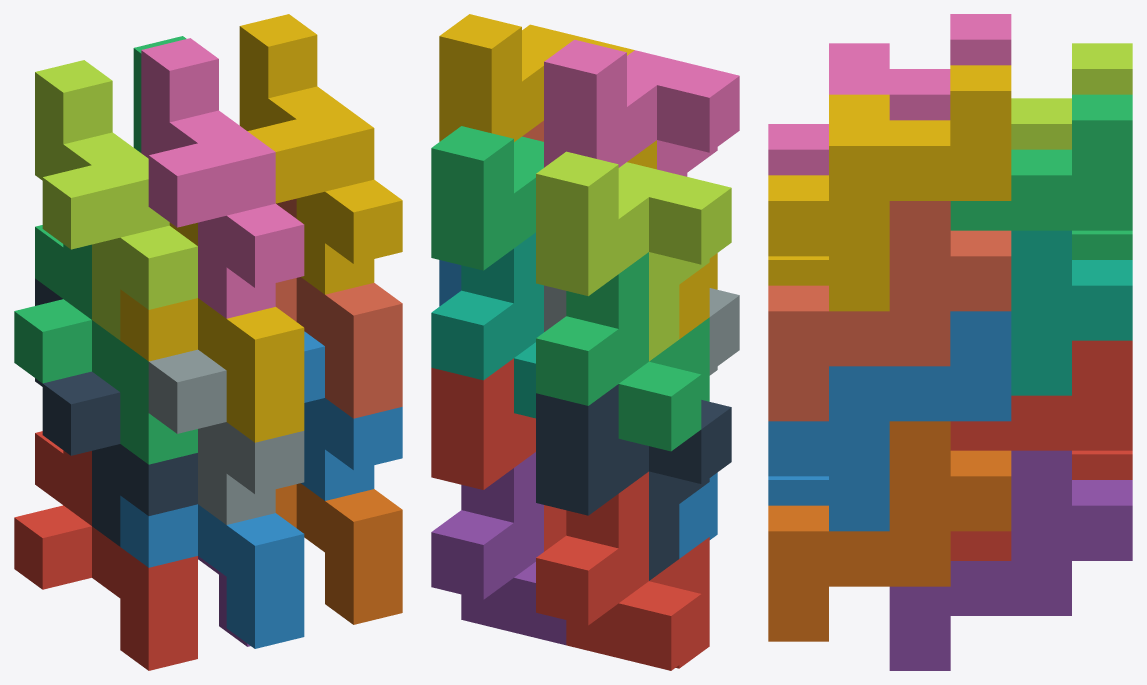
File: tiling.obj
3 views of the same model, side by side, from view 1: azimuth 30°, elevation 25°; view 2: azimuth 150°, elevation 25°; view 3: azimuth 270°, elevation 25° (orthographic). The views are drawn at different scales.
Visible parts, largest first — view 1: copy_2_domain_4, copy_2_domain_8, copy_2_domain_3, copy_1_domain_1, copy_1_domain_4, copy_1_domain_2, copy_1_domain_3, copy_2_domain_2, copy_2_domain_1, copy_1_domain_8, copy_1_domain_6, copy_2_domain_6 (+2 smaller); view 2: copy_2_domain_3, copy_1_domain_1, copy_2_domain_4, copy_1_domain_3, copy_2_domain_1, copy_1_domain_5, copy_2_domain_7, copy_2_domain_8, copy_1_domain_7, copy_2_domain_5, copy_2_domain_2, copy_1_domain_4 (+2 smaller); view 3: copy_2_domain_8, copy_1_domain_6, copy_1_domain_8, copy_2_domain_6, copy_1_domain_5, copy_2_domain_7, copy_1_domain_7, copy_2_domain_5, copy_2_domain_4, copy_2_domain_3, copy_1_domain_1, copy_1_domain_2 (+2 smaller).
Boxes of the visible parts, box(x1,y1,x2,y2) form: copy_2_domain_4: box(141, 38, 304, 318); copy_2_domain_8: box(239, 14, 402, 294); copy_2_domain_3: box(35, 60, 197, 340); copy_1_domain_1: box(14, 431, 197, 670); copy_1_domain_4: box(120, 222, 304, 442); copy_1_domain_2: box(120, 495, 304, 648); copy_1_domain_3: box(14, 225, 197, 464); copy_2_domain_2: box(148, 349, 304, 524); copy_2_domain_1: box(35, 278, 197, 546); copy_1_domain_8: box(275, 198, 402, 418); copy_1_domain_6: box(275, 483, 402, 624); copy_2_domain_6: box(301, 331, 402, 500); copy_2_domain_3: box(536, 151, 731, 361); copy_1_domain_1: box(536, 471, 709, 670); copy_2_domain_4: box(544, 39, 739, 176); copy_1_domain_3: box(536, 252, 709, 451); copy_2_domain_1: box(536, 384, 731, 580); copy_1_domain_5: box(431, 452, 566, 645); copy_2_domain_7: box(431, 126, 543, 270); copy_2_domain_8: box(439, 14, 634, 141); copy_1_domain_7: box(431, 232, 543, 418); copy_2_domain_5: box(431, 358, 566, 551); copy_2_domain_2: box(544, 285, 739, 375); copy_1_domain_4: box(627, 140, 717, 338); copy_2_domain_8: box(768, 65, 1011, 311); copy_1_domain_6: box(768, 421, 1011, 641); copy_1_domain_8: box(768, 201, 1011, 421); copy_2_domain_6: box(768, 311, 1011, 531); copy_1_domain_5: box(889, 450, 1132, 670); copy_2_domain_7: box(950, 94, 1132, 230); copy_1_domain_7: box(1011, 230, 1132, 395); copy_2_domain_5: box(950, 340, 1132, 560); copy_2_domain_4: box(768, 14, 1011, 175); copy_2_domain_3: box(1011, 43, 1132, 149); copy_1_domain_1: box(1072, 450, 1132, 479); copy_1_domain_2: box(768, 476, 828, 505).
Size of the model in its own units: 5 by 11 by 6.
